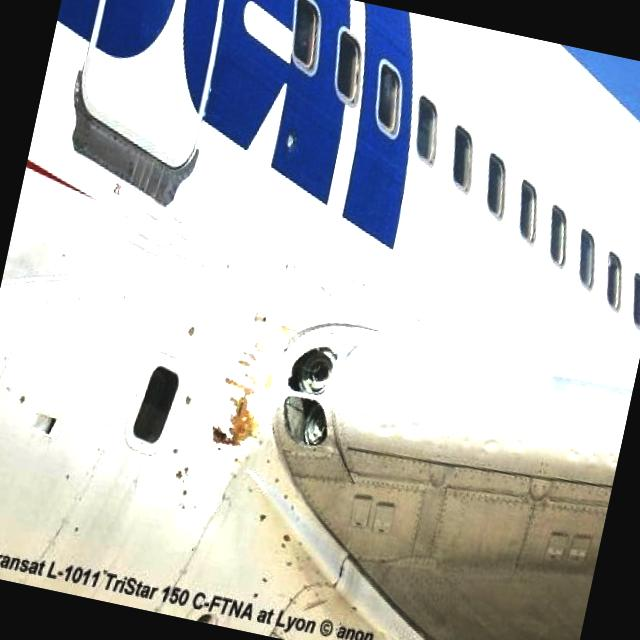dent: (349, 386, 621, 489)
